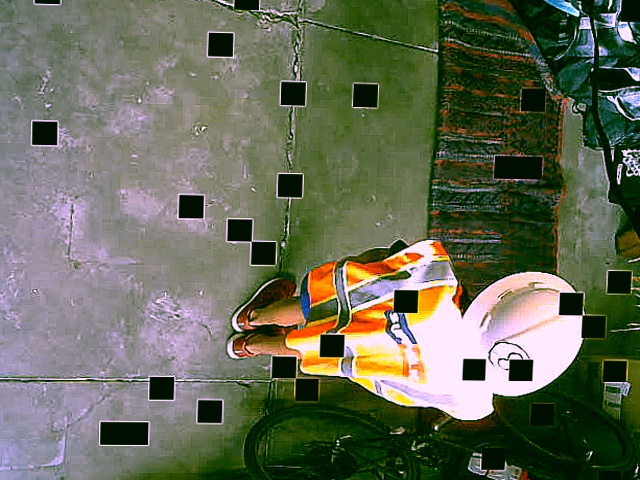eight: (487, 341, 531, 381)
